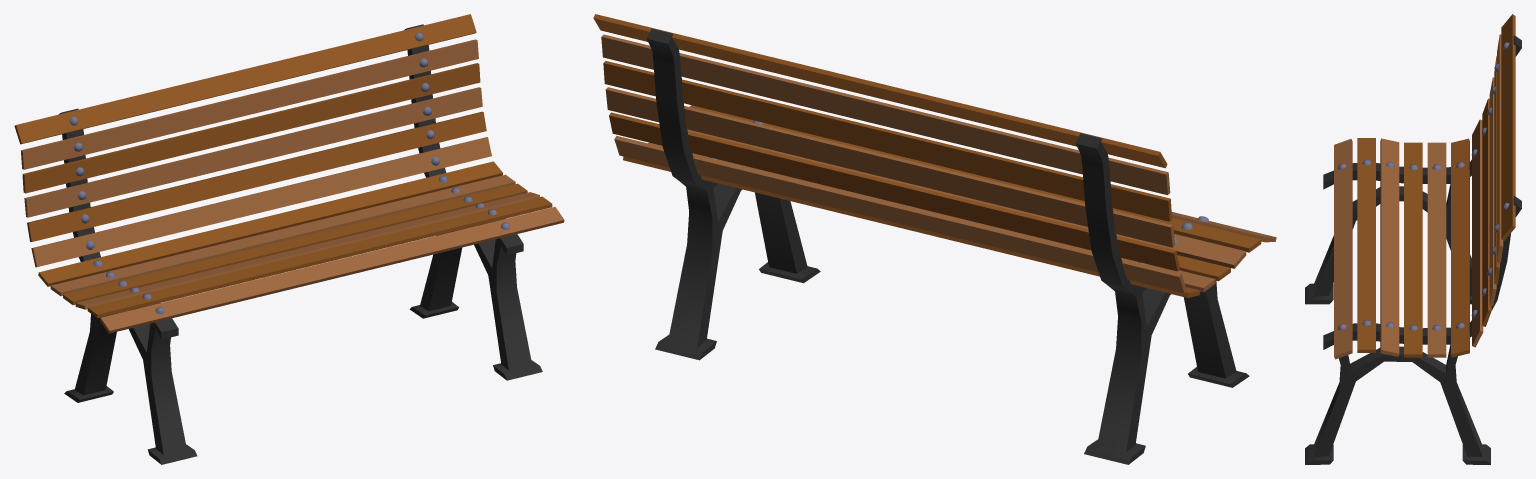
Rendered from Bank.fbx.
3 renders of one model, left to right at view 1: azimuth 30°, elevation 25°; view 2: azimuth 150°, elevation 25°; view 3: azimuth 270°, elevation 25°, orthographic. The views are drawn at different scales.
Visible parts, largest first — view 1: Bank; view 2: Bank; view 3: Bank.
Boxes of the visible parts, <box> form: Bank: <box>14,14,564,464</box>; Bank: <box>593,14,1276,464</box>; Bank: <box>1305,14,1521,464</box>.
Size of the model in its own units: 161 by 91.43 by 69.57.
